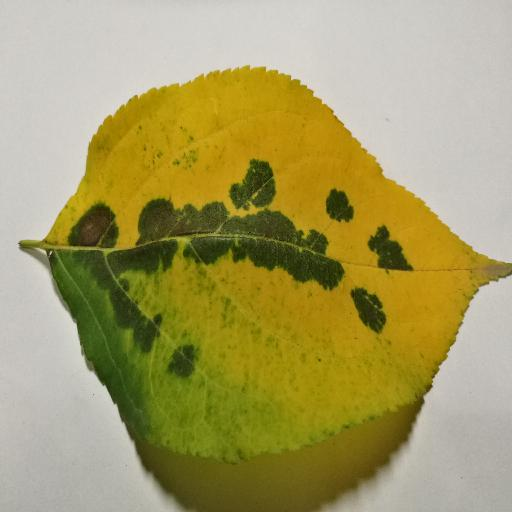Brown_Spot: (146, 197, 233, 238), (65, 207, 131, 251)
